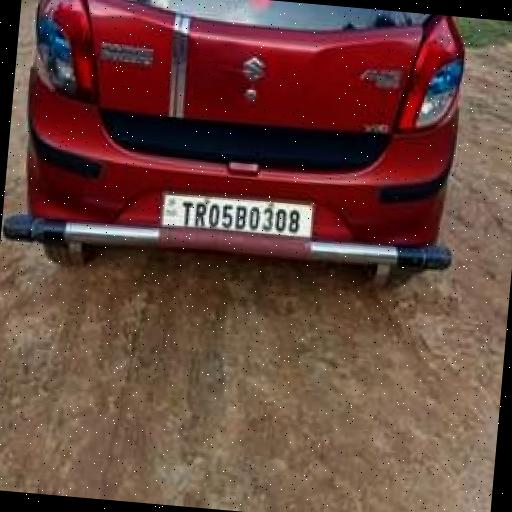license_plate`: (158, 188, 311, 235)
